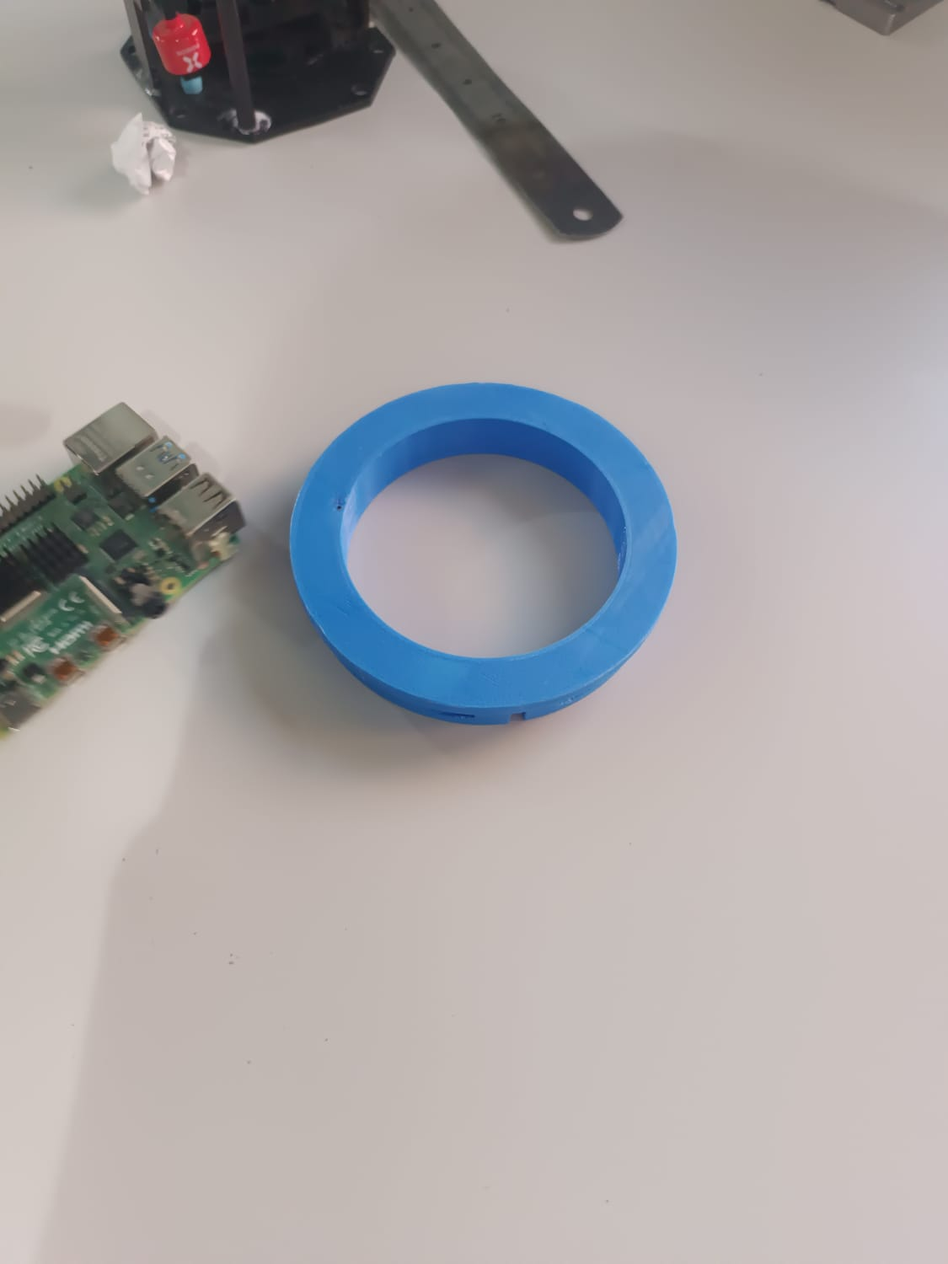Circle: (275, 370, 688, 736)
